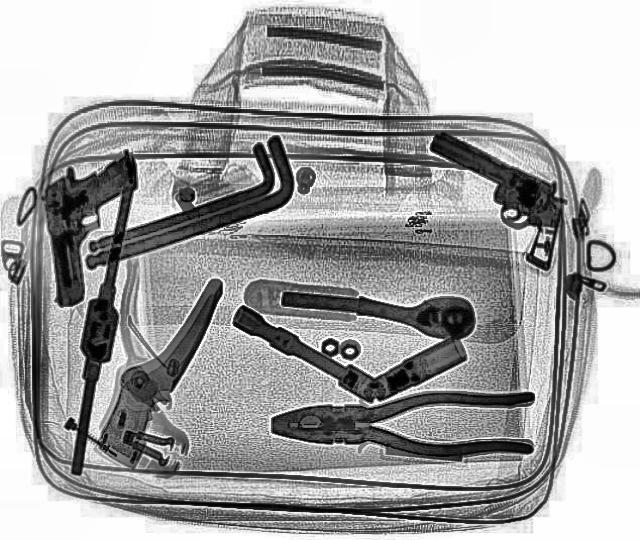Gun: (386, 126, 598, 270), (33, 149, 157, 307)
Pliers: (270, 389, 534, 457)
